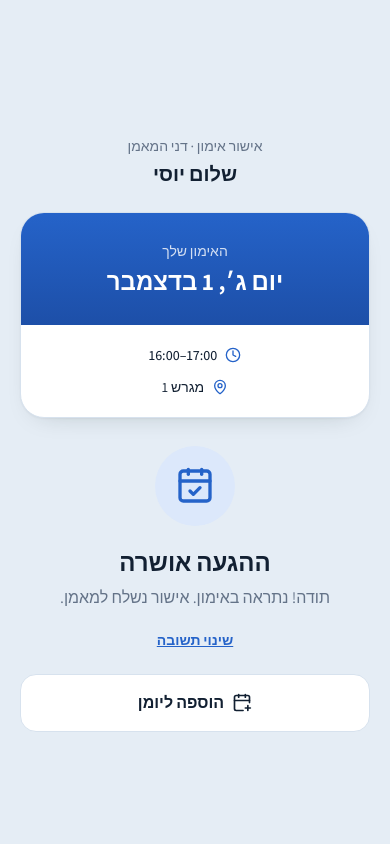
ConfirmPage state machine › lets the client reopen the answer buttons
This screenshot has width=390, height=844.
Click the button "שינוי תשובה": (195, 640) [157, 630, 233, 650]
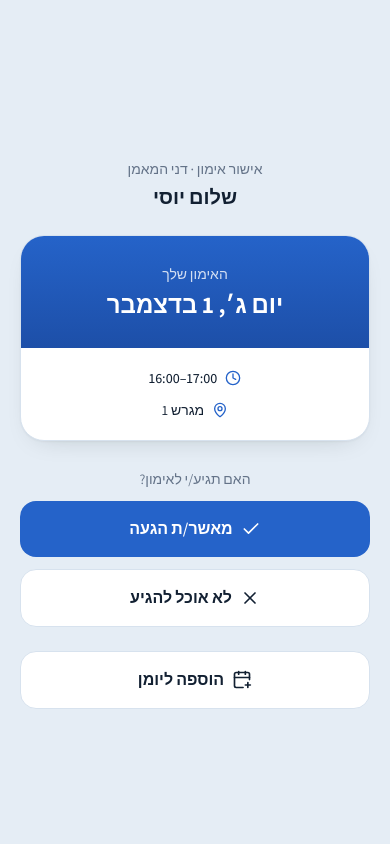
Expected: the button "הוספה ליומן" is shown, [20, 651, 370, 709]
Expected: the button "מאשר/ת הגעה" is shown, [20, 501, 370, 557]
Expected: the button "לא אוכל להגיע" is shown, [20, 569, 370, 627]
